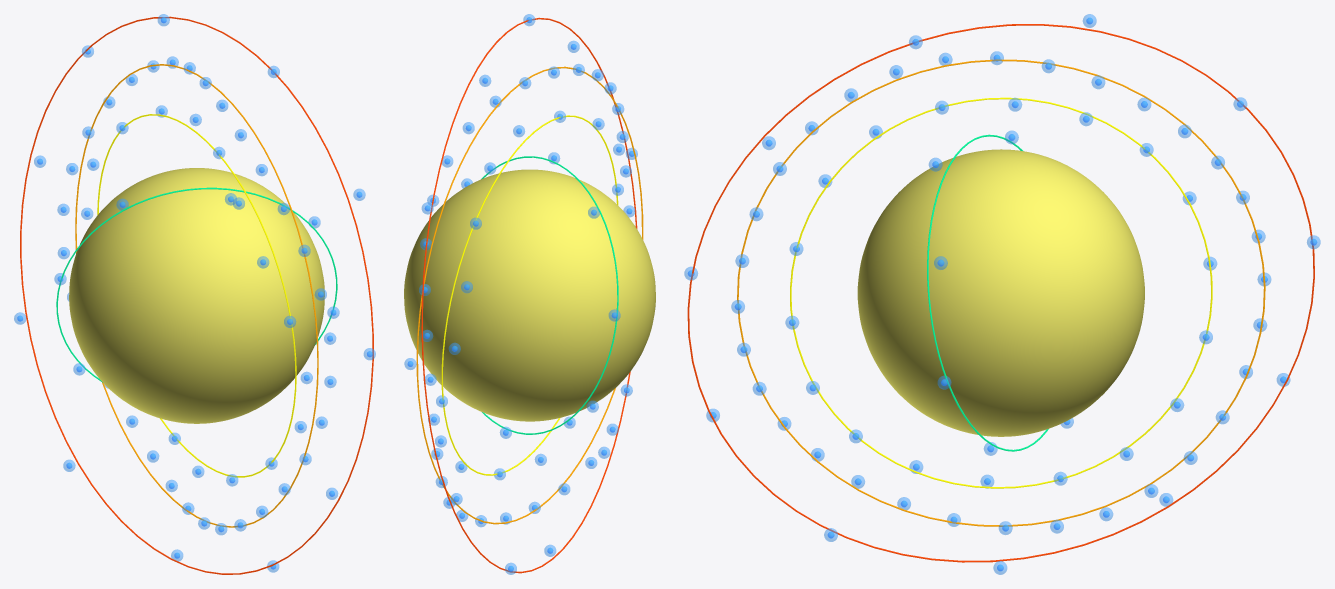
3 renders of one model, left to right at view 1: azimuth 30°, elevation 25°; view 2: azimuth 150°, elevation 25°; view 3: azimuth 270°, elevation 25°, orthographic. The views are drawn at different scales.
Visible parts, largest first — view 1: Lu, object 126, object 61, object 24, object 7; view 2: Lu, object 126, object 61, object 24, object 7; view 3: Lu, object 126, object 61, object 24, object 7.
Boxes of the visible parts, x1,y1,x2,y2 form: Lu: (69, 168, 324, 423); object 126: (20, 16, 373, 574); object 61: (75, 64, 318, 527); object 24: (97, 114, 296, 477); object 7: (56, 187, 337, 382); Lu: (404, 169, 655, 421); object 126: (421, 17, 637, 573); object 61: (416, 66, 643, 524); object 24: (441, 115, 618, 475); object 7: (481, 156, 618, 434); Lu: (857, 149, 1144, 436); object 126: (687, 24, 1314, 562); object 61: (737, 59, 1265, 526); object 24: (790, 97, 1212, 488); object 7: (927, 134, 1048, 451).
Bounding box in the file's own units: 3.44 × 7.25 × 7.25.
